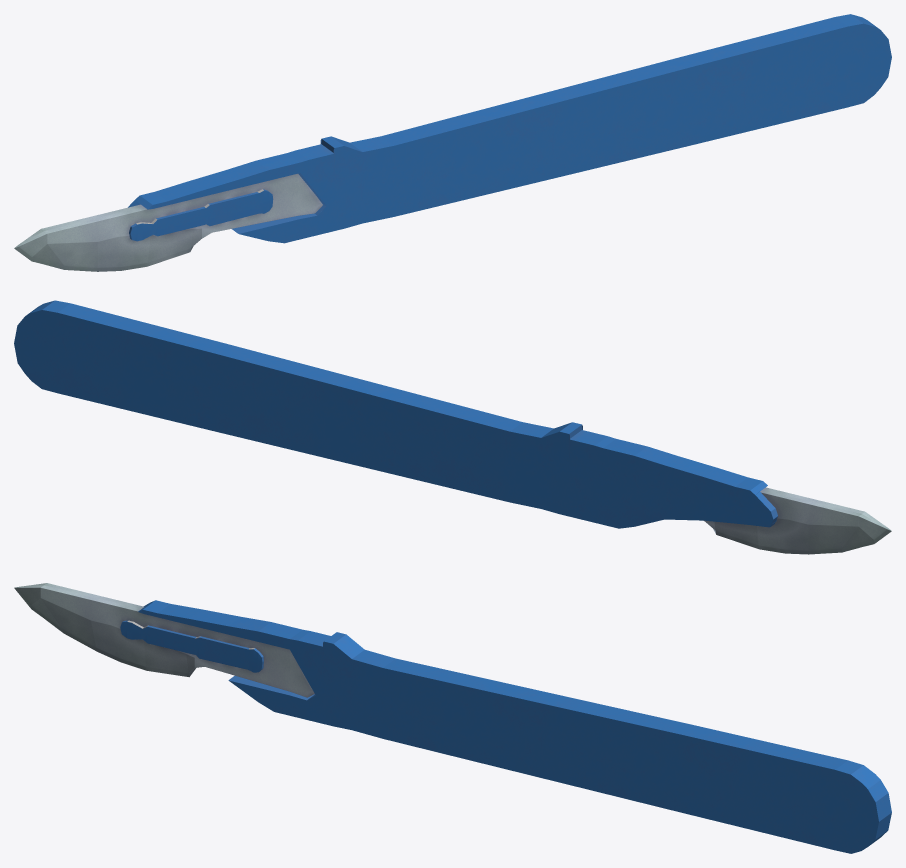
3 renders of one model, top to bottom at view 1: azimuth 30°, elevation 25°; view 2: azimuth 150°, elevation 25°; view 3: azimuth 330°, elevation 25°, orthographic.
Visible parts, largest first — view 1: mango, filo, tope; view 2: mango, filo; view 3: mango, filo, tope.
Part boxes in pixels (x1,y1,x2,y2): mango: (128, 14, 891, 243); filo: (14, 173, 322, 271); tope: (129, 189, 273, 241); mango: (14, 300, 777, 528); filo: (704, 487, 891, 554); mango: (138, 600, 891, 853); filo: (14, 583, 314, 697); tope: (120, 620, 263, 672).
Size of the model in its own units: 0.1208 by 0.0112 by 0.00318.
Materials: 1 (1 with a texture image).
